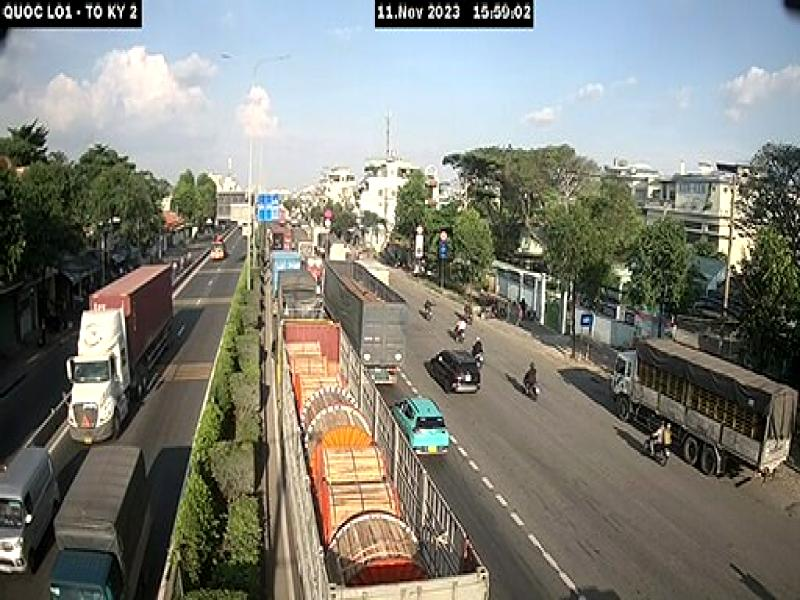truck: (609, 333, 800, 479), (65, 257, 176, 445), (52, 447, 146, 600)
